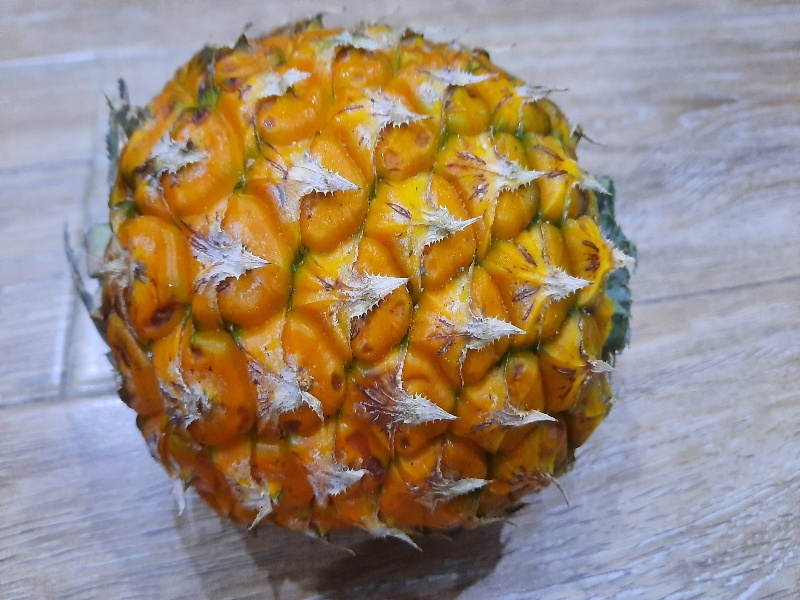fruit: (86, 19, 637, 547)
